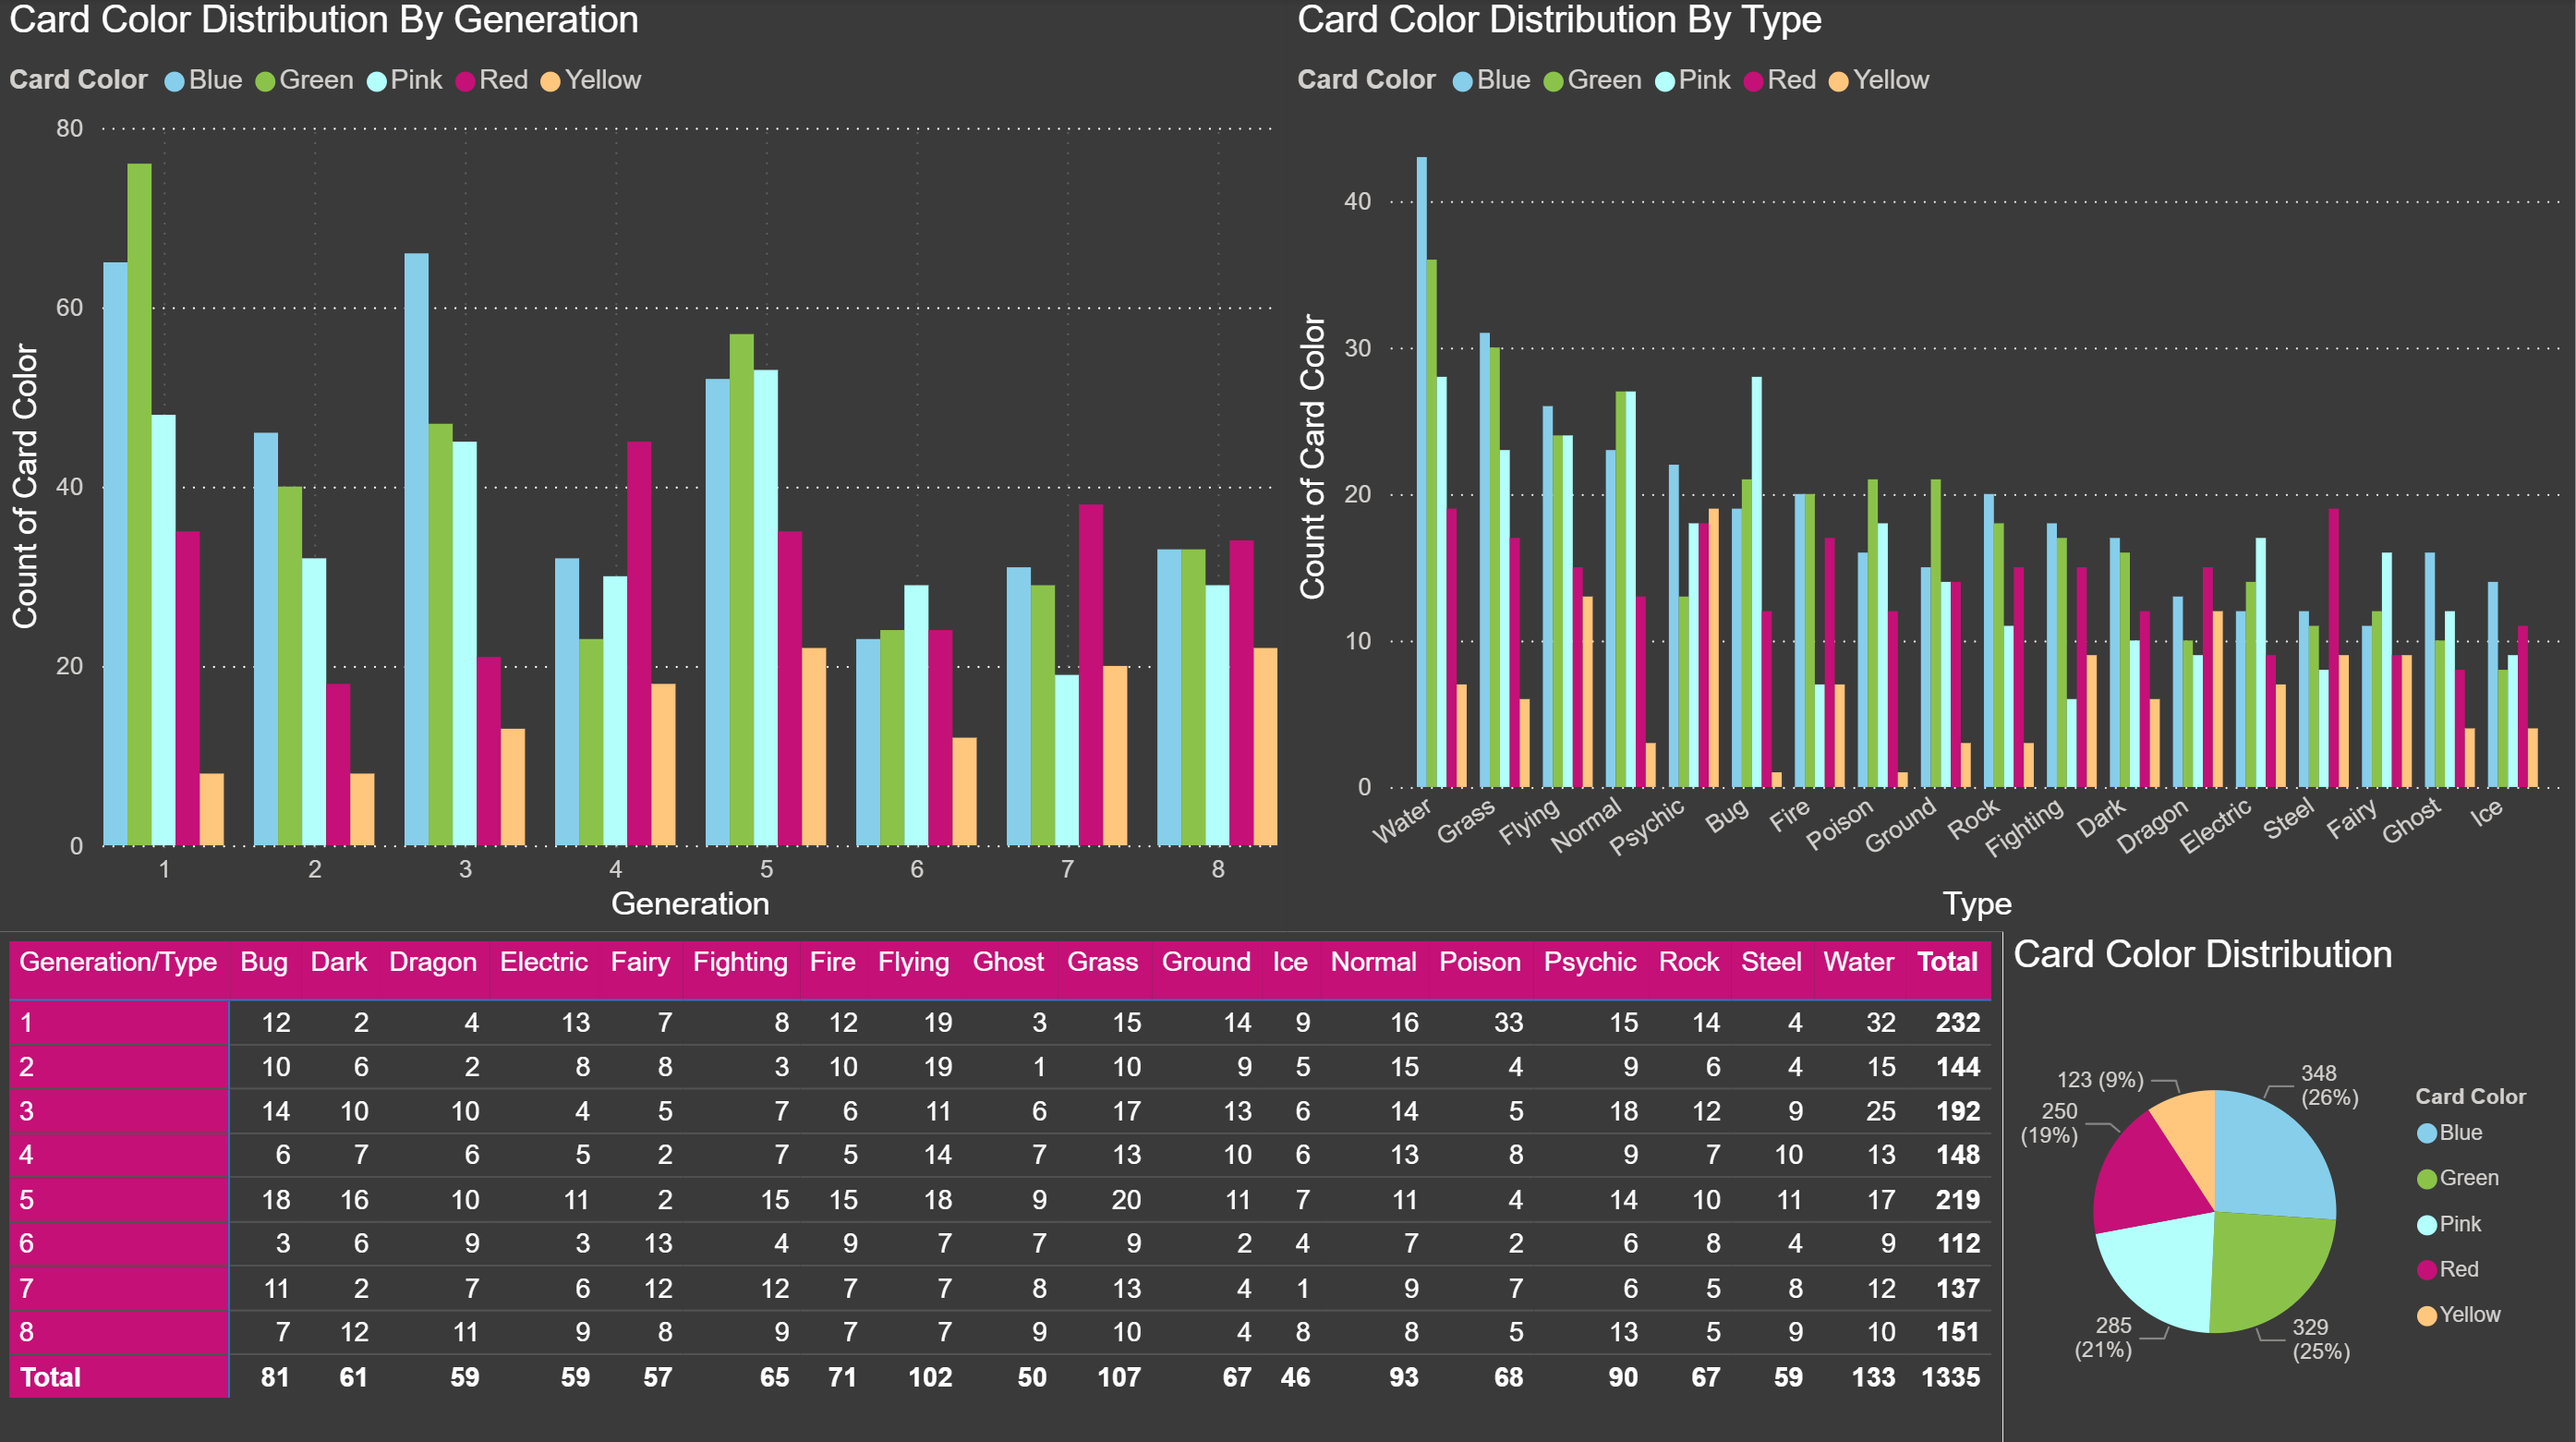

Layout of this report page (visuals, bound fields, positions):
{"tool":"powerbi","page":{"name":"Card Color and Generation","canvas":[1280,720],"ordinal":1},"visuals":[{"type":"pivotTable","fields":{"Values":["CountNonNull(Pokedex.Type)"],"Columns":["Pokedex.Type"],"Rows":["Pokedex.Generation"]},"box":[0,463.8,996.3,256.4],"z":0},{"type":"clusteredColumnChart","title":"Card Color Distribution By Generation","fields":{"Category":["Pokedex.Generation"],"Y":["CountNonNull(Pokedex.Card Color)"],"Series":["Pokedex.Card Color"]},"box":[0,0,640.5,463.8],"z":1000},{"type":"clusteredColumnChart","title":"Card Color Distribution By Type","fields":{"Category":["Pokedex.Type"],"Series":["Pokedex.Card Color"],"Y":["CountNonNull(Pokedex.Card Color)"]},"box":[640.5,0,639.3,463.8],"z":2000},{"type":"pieChart","title":"Card Color Distribution","fields":{"Category":["Pokedex.Card Color"],"Y":["CountNonNull(Pokedex.Type)"]},"box":[996,464,283,256],"z":3000}]}

Visuals, with their boxes in screenshot pixels (x1, y1, x2, y2), scaled from the page's 1280x720 canvas onto the 2576x1442 screenshot:
pivotTable - CountNonNull(Pokedex.Type) x Pokedex.Type: left=0, top=929, right=2005, bottom=1441
"Card Color Distribution By Generation" clusteredColumnChart: left=0, top=0, right=1289, bottom=929
"Card Color Distribution By Type" clusteredColumnChart: left=1289, top=0, right=2575, bottom=929
"Card Color Distribution" pieChart: left=2004, top=929, right=2574, bottom=1441
